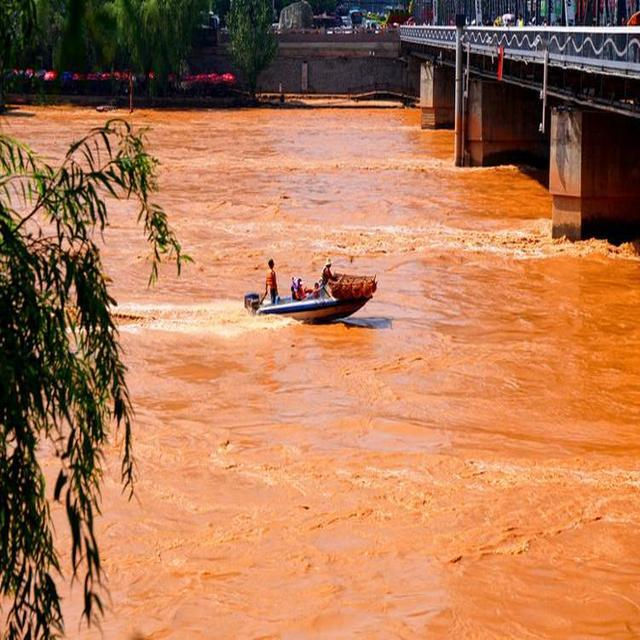Person-RiskLevel3: (247, 247, 349, 311)
